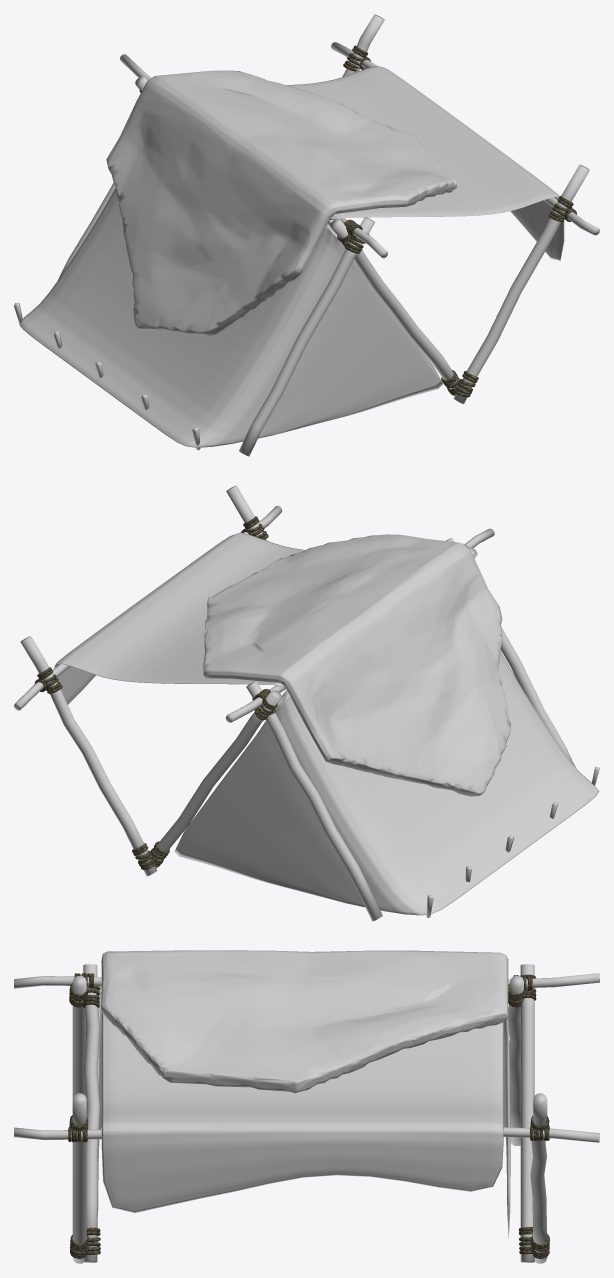
The model's file is highpoly_viking_tent_003.obj.
The picture shows the model from 3 angles, top to bottom: view 1: azimuth 30°, elevation 25°; view 2: azimuth 150°, elevation 25°; view 3: azimuth 270°, elevation 25°; orthographic projection. The views are drawn at different scales.
Visible parts, largest first — view 1: Plane.006, Plane.000, Cylinder.018, Cylinder.022, Cylinder.017, BezierCircle.168, Cylinder.023, Cylinder.016, Cylinder.021; view 2: Plane.006, Plane.000, Cylinder.020, Cylinder.021, Cylinder.019, Cylinder.018, BezierCircle.168, Cylinder.023, Cylinder.016; view 3: Plane.006, Plane.000, Cylinder.019, Cylinder.017, BezierCircle.168, Cylinder.021, Cylinder.022, Cylinder.023, Cylinder.020, Cylinder.016, Cylinder.018, BezierCircle.113.
Boxes of the visible parts, x1,y1,x2,y2 form: Plane.006: (19, 66, 564, 447); Plane.000: (106, 70, 456, 336); Cylinder.018: (239, 217, 375, 456); Cylinder.022: (453, 164, 589, 403); Cylinder.017: (330, 219, 457, 396); BezierCircle.168: (343, 45, 576, 397); Cylinder.023: (331, 42, 599, 235); Cylinder.016: (120, 54, 387, 258); Cylinder.021: (342, 14, 384, 76); Plane.006: (54, 532, 599, 915); Plane.000: (203, 534, 511, 796); Cylinder.020: (246, 681, 382, 921); Cylinder.021: (20, 636, 156, 876); Cylinder.019: (154, 690, 281, 868); Cylinder.018: (446, 538, 575, 766); BezierCircle.168: (34, 516, 268, 869); Cylinder.023: (14, 505, 282, 710); Cylinder.016: (225, 528, 494, 722); Plane.006: (97, 977, 510, 1238); Plane.000: (101, 950, 508, 1093); Cylinder.019: (520, 964, 534, 1262); Cylinder.017: (83, 964, 100, 1262); BezierCircle.168: (68, 1115, 549, 1258); Cylinder.021: (530, 1093, 547, 1263); Cylinder.022: (72, 1093, 86, 1263); Cylinder.023: (14, 1124, 599, 1142); Cylinder.020: (508, 976, 523, 1145); Cylinder.016: (14, 973, 599, 988); Cylinder.018: (72, 976, 86, 1098); BezierCircle.113: (69, 973, 536, 1008).
Size of the model in its own units: 7.71 by 4.16 by 8.92.
